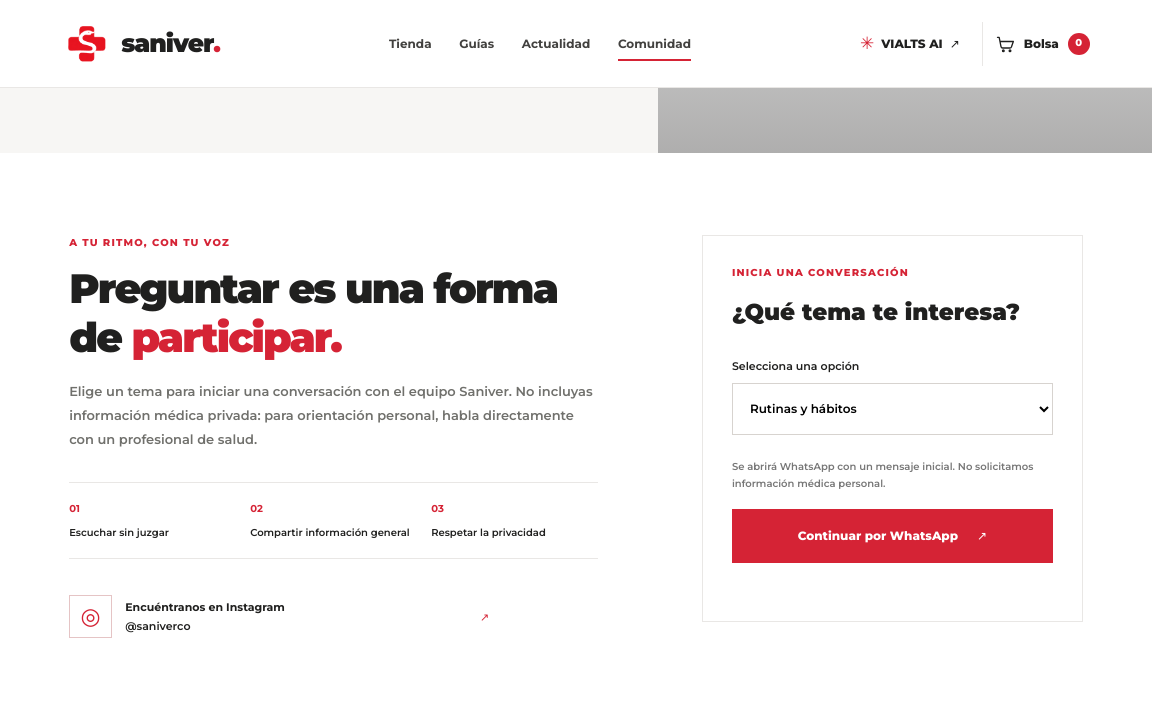
Scenario: Saniver storefront routes › starts a community conversation with the selected topic
The width and height of the screenshot is (1152, 720).
(page scrolled)
Select "Cuidado personal" in the dropdown labelled "Selecciona una opción". click: coordinates (892, 409)
box: [732,383,1053,435]
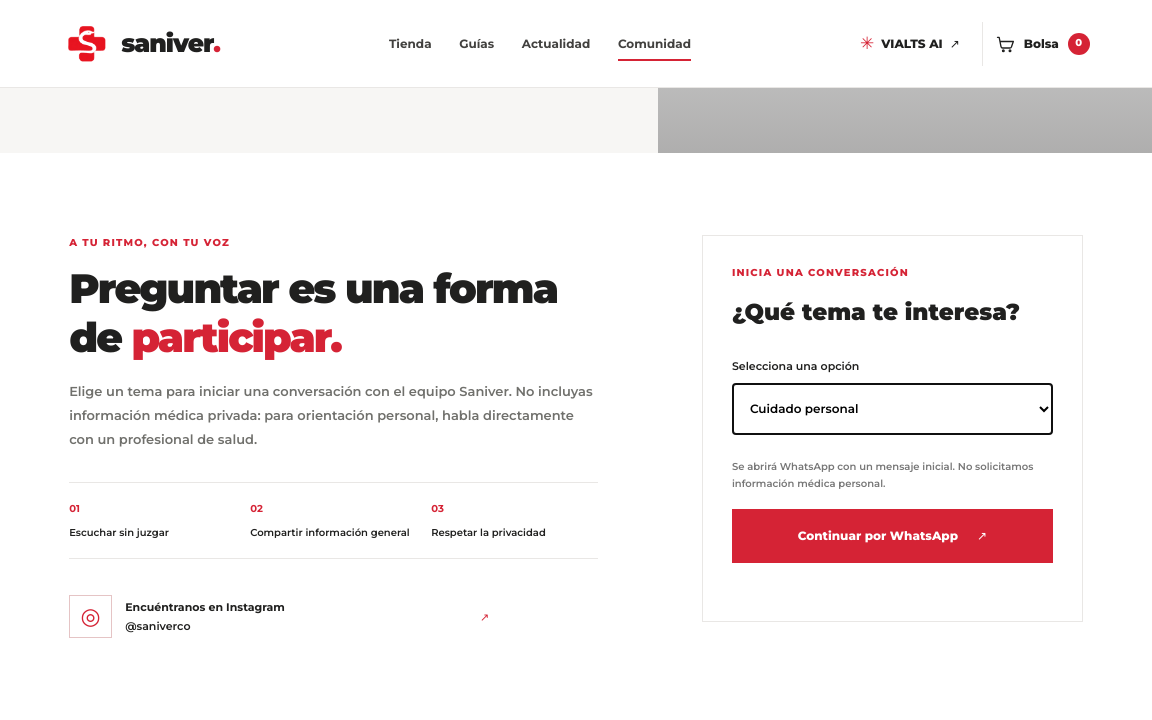
Click the button "Continuar por WhatsApp ↗". click: coordinates (892, 536)
box: [732,509,1053,563]
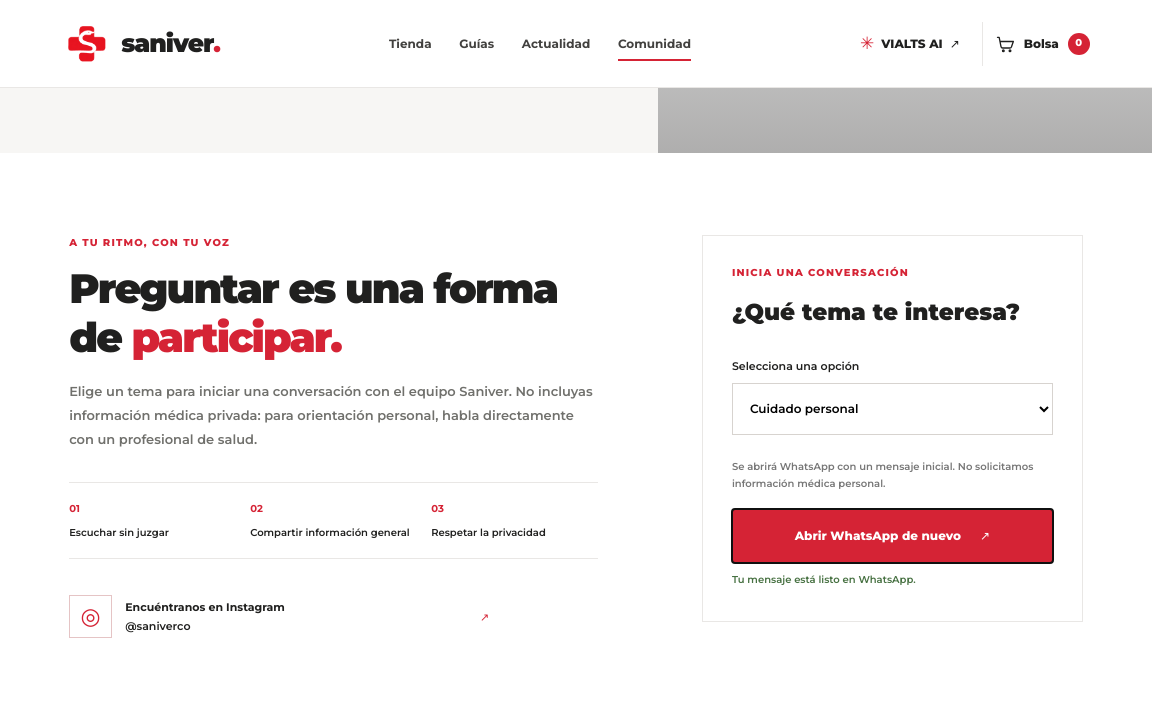
Check: the text "Tu mensaje está listo en WhatsApp." is shown, box [732,573,916,586]
